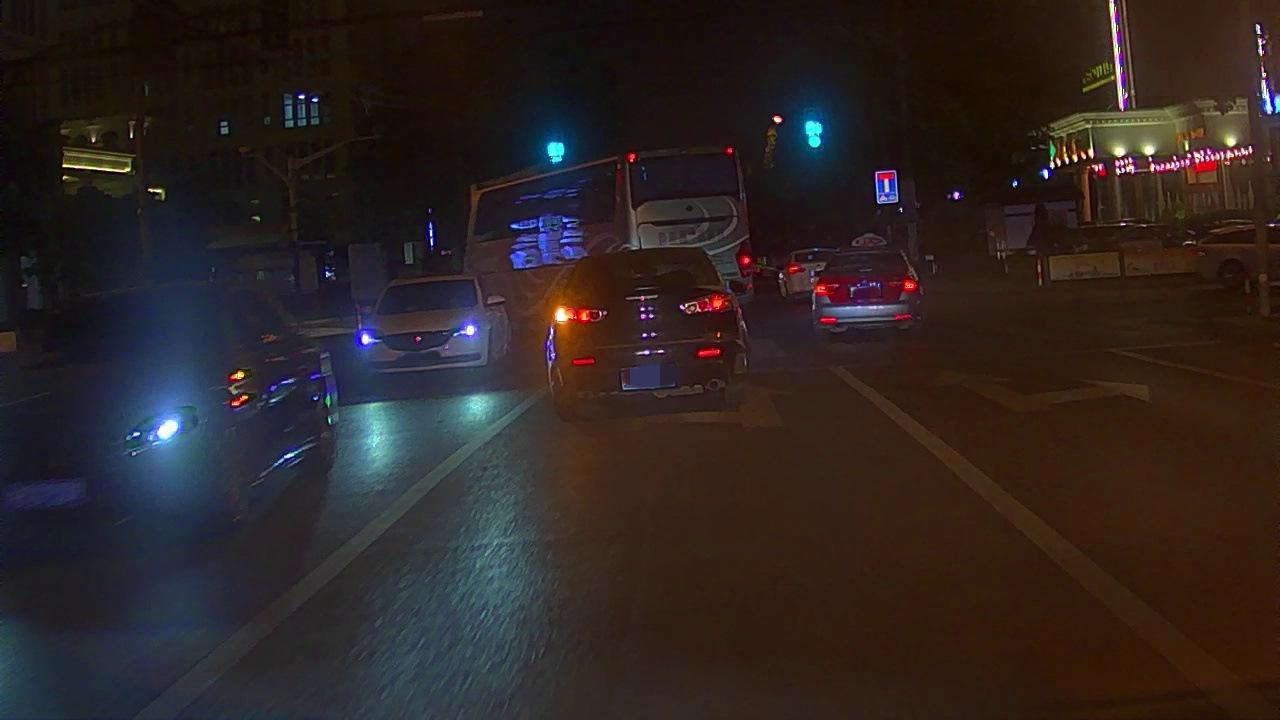traffic_light: (801, 114, 827, 153), (545, 135, 568, 165)
